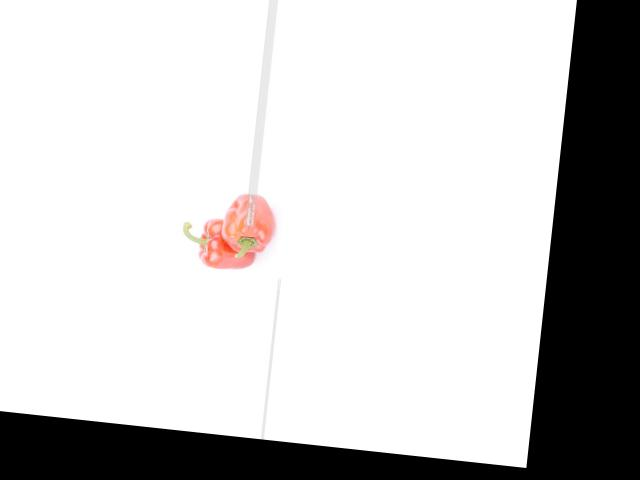bell_pepper: (214, 183, 278, 259)
